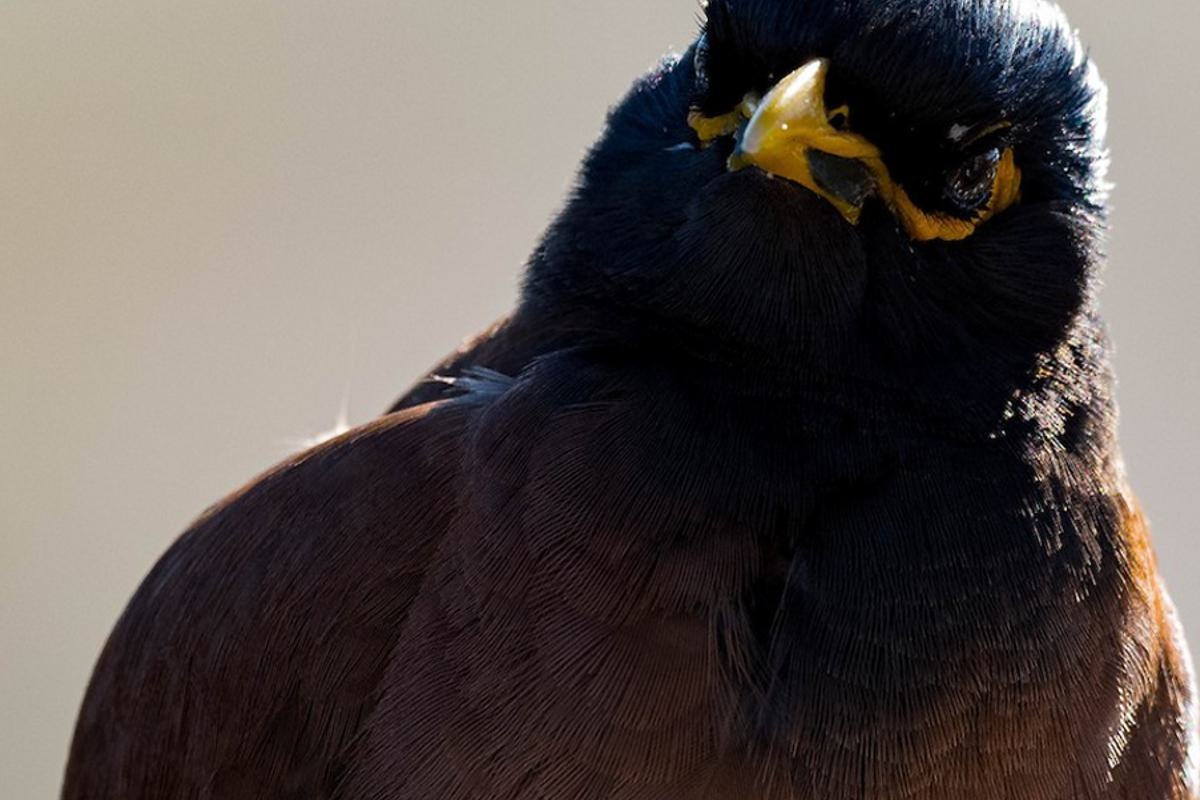myna: (57, 1, 1193, 793)
